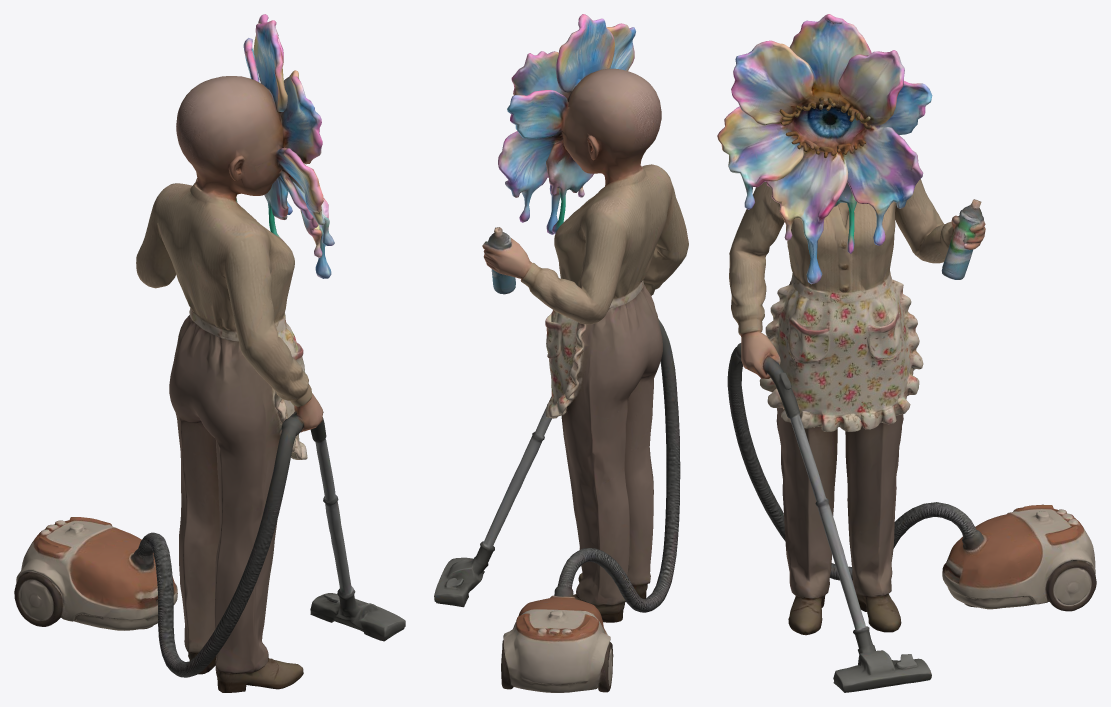
Rendered from npc_felix.glb.
3 renders of one model, left to right at view 1: azimuth 30°, elevation 25°; view 2: azimuth 150°, elevation 25°; view 3: azimuth 270°, elevation 25°, orthographic. The views are drawn at different scales.
Parts seen in each view (by area): view 1: tripo_node_8ef0ef63-db6b-456c-9195-0d16e5945203; view 2: tripo_node_8ef0ef63-db6b-456c-9195-0d16e5945203; view 3: tripo_node_8ef0ef63-db6b-456c-9195-0d16e5945203.
Boxes of the visible parts, left/top/right/bottom form: tripo_node_8ef0ef63-db6b-456c-9195-0d16e5945203: left=14, top=14, right=405, bottom=692; tripo_node_8ef0ef63-db6b-456c-9195-0d16e5945203: left=434, top=14, right=688, bottom=692; tripo_node_8ef0ef63-db6b-456c-9195-0d16e5945203: left=717, top=14, right=1096, bottom=692.
Size of the model in its own units: 0.4553 by 1 by 0.5574.
Materials: 1 (1 with a texture image).
